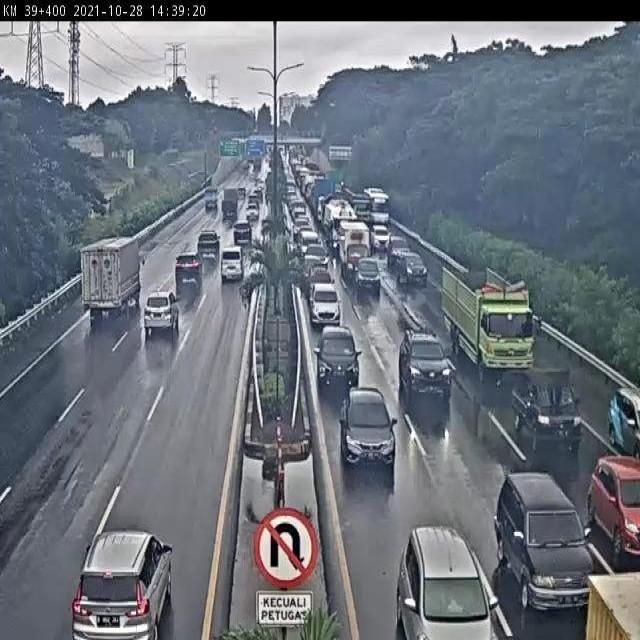car: (494, 473, 597, 611), (393, 516, 492, 640), (69, 532, 172, 640), (587, 455, 640, 560), (337, 387, 399, 462), (397, 327, 452, 400), (316, 324, 359, 385), (142, 290, 177, 330), (310, 276, 339, 321), (390, 250, 429, 282), (219, 246, 244, 282), (173, 253, 202, 284), (354, 255, 379, 285), (197, 232, 223, 260), (382, 229, 407, 255), (303, 253, 324, 280), (232, 220, 253, 245), (307, 264, 331, 285), (305, 244, 328, 265)
mid truck: (441, 264, 532, 371), (80, 239, 141, 321)
small truck: (516, 361, 584, 448), (340, 224, 370, 271)
